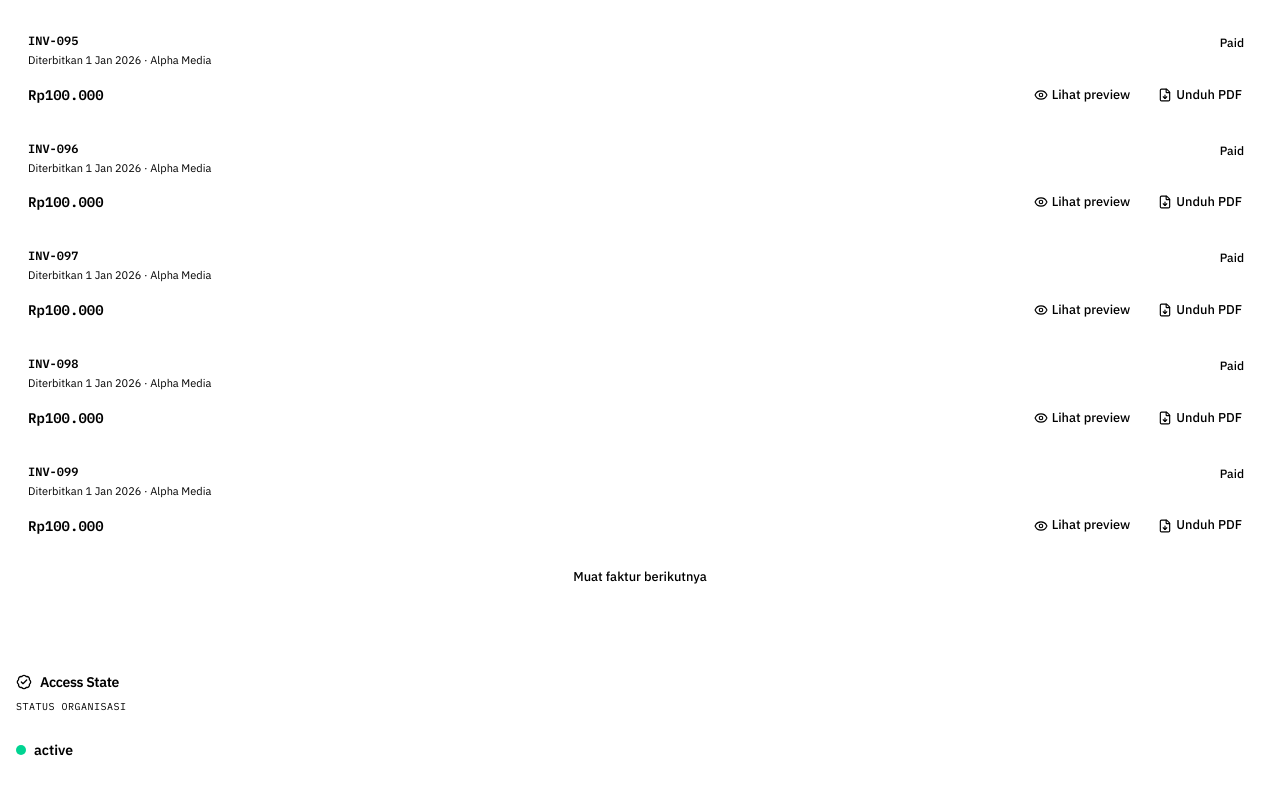
Test: Monetization Control Center V2 › loads subsequent invoice pages using the last row cursor
The image size is (1280, 792).
(page scrolled)
Expected: the text "INV-099" is shown, [28, 464, 78, 479]
What coordinates should you click on to do the following:
click the button "Muat faktur berikutnya"
I would click on:
 (640, 578)
Its box is [563, 564, 717, 592].
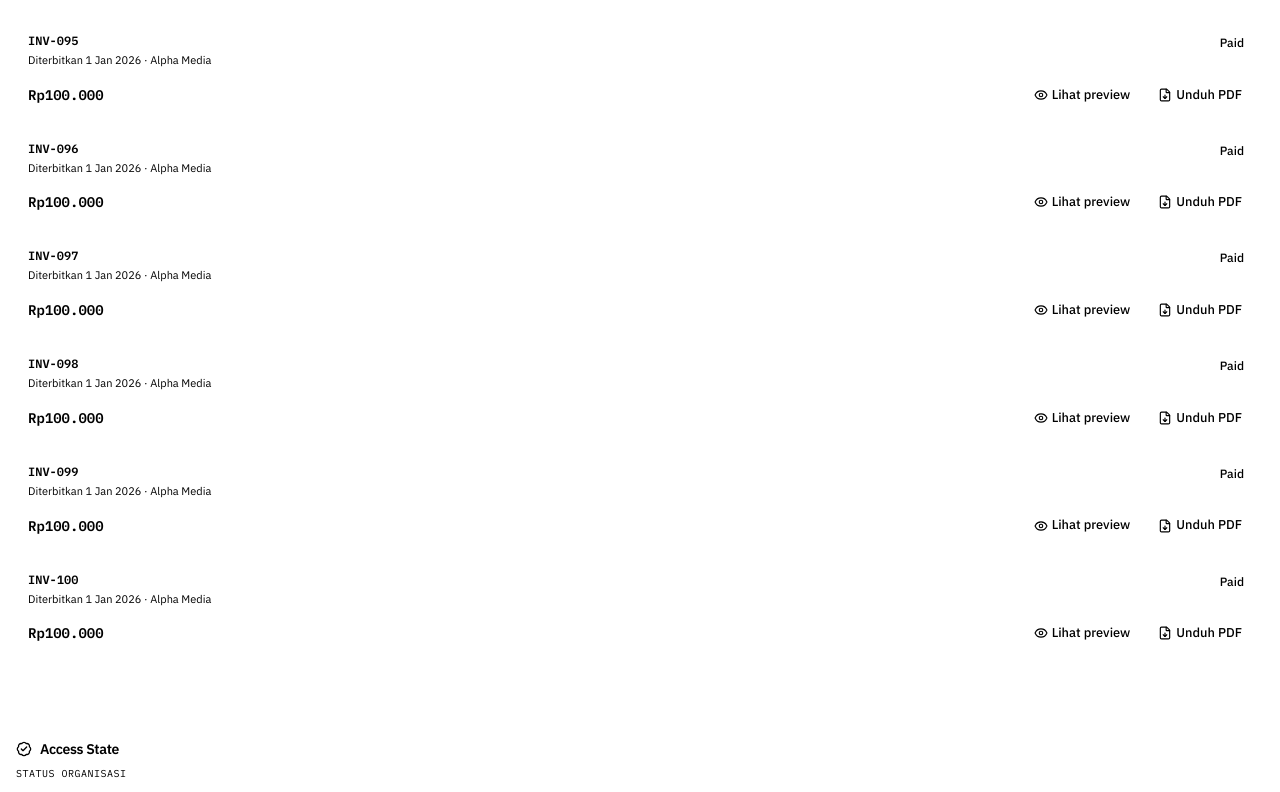
Result: the text "INV-100" is shown at [28, 572, 78, 586]
Result: the button "Muat faktur berikutnya" is gone
